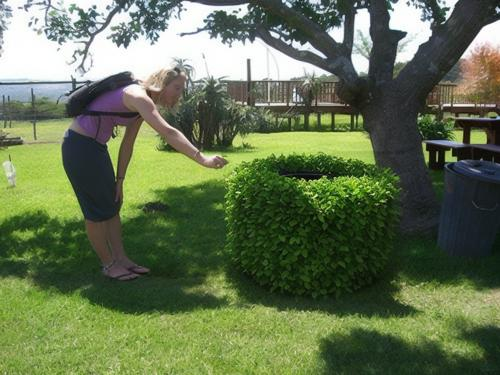person: (61, 67, 230, 284)
person/foot: (103, 265, 139, 281), (114, 258, 149, 274)
person/hand: (202, 153, 228, 172), (116, 182, 124, 204)
person/head: (158, 70, 185, 106)
pottedplant: (224, 151, 401, 301)
